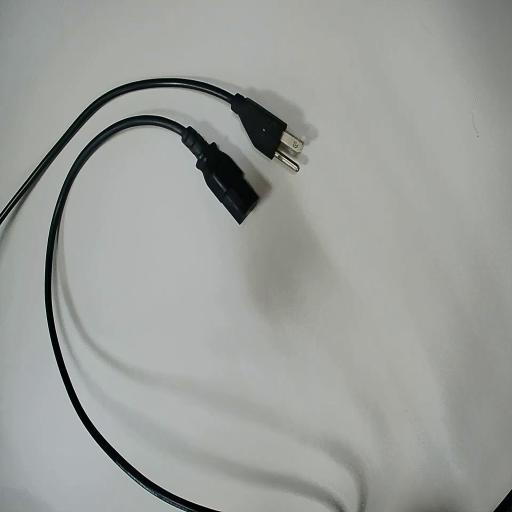wire: (46, 116, 259, 511), (0, 79, 286, 221)
